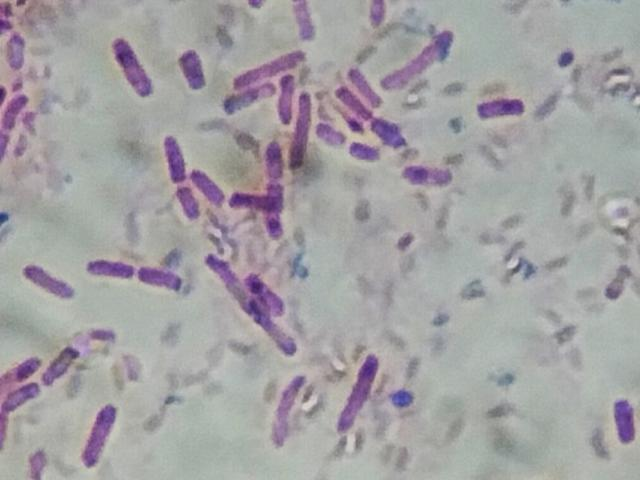E. coli: (203, 249, 307, 314), (333, 354, 384, 439), (405, 27, 463, 90), (85, 396, 121, 470), (260, 142, 288, 232), (397, 155, 466, 191), (273, 369, 304, 447), (113, 39, 152, 98), (477, 89, 530, 125), (334, 84, 380, 123), (43, 348, 86, 389), (23, 266, 71, 302), (175, 49, 212, 94), (157, 131, 187, 186), (349, 64, 390, 104), (610, 397, 639, 452), (252, 46, 315, 69), (224, 87, 277, 114), (83, 251, 126, 280), (3, 91, 32, 133), (0, 355, 39, 386), (135, 262, 179, 289), (293, 1, 321, 41), (5, 386, 47, 411), (193, 165, 220, 200), (177, 186, 202, 222), (233, 191, 274, 212), (372, 118, 406, 142), (8, 27, 29, 64), (348, 137, 379, 161), (317, 120, 342, 146), (366, 1, 386, 33), (548, 165, 551, 166)
